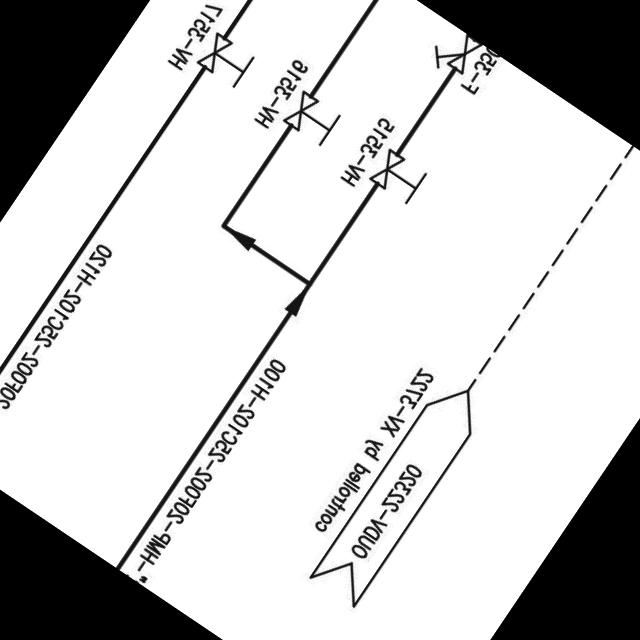HVWT: (277, 80, 353, 155), (189, 23, 264, 97), (364, 143, 436, 214)
S: (421, 20, 487, 86)
